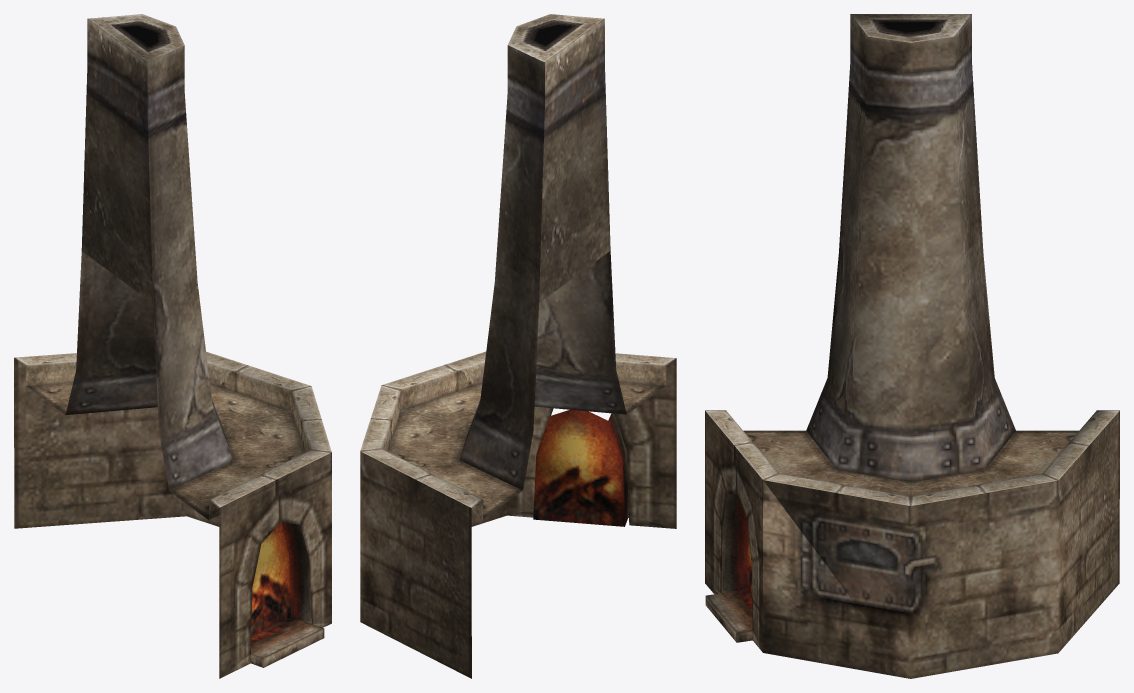
3 renders of one model, left to right at view 1: azimuth 30°, elevation 25°; view 2: azimuth 150°, elevation 25°; view 3: azimuth 270°, elevation 25°, orthographic.
Visible parts, largest first — view 1: bf1_stF_02; view 2: bf1_stF_02; view 3: bf1_stF_02.
Part boxes in pixels (x1,y1,x2,y2): bf1_stF_02: (14, 14, 331, 678); bf1_stF_02: (360, 14, 676, 678); bf1_stF_02: (705, 14, 1119, 678).
Bounding box in the file's own units: 0.0315 × 0.0875 × 0.0578.
Materials: 2 (2 with a texture image).
